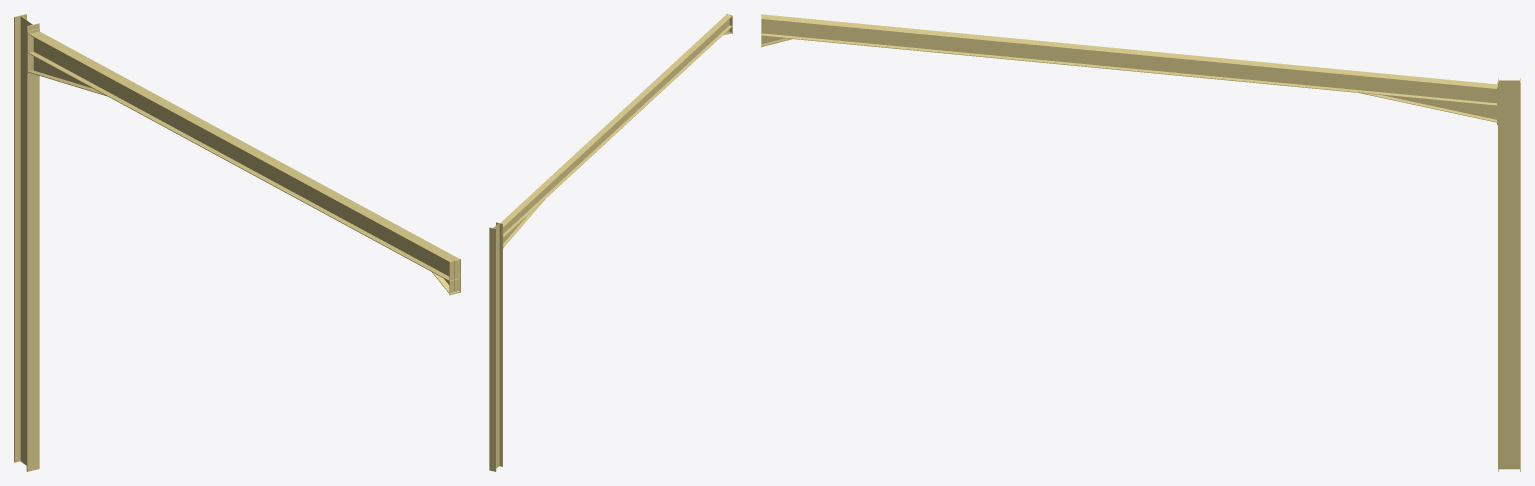
File: PortalFrame_low.fbx
The picture shows the model from 3 angles, left to right: view 1: azimuth 30°, elevation 25°; view 2: azimuth 150°, elevation 25°; view 3: azimuth 270°, elevation 25°; orthographic projection. The views are drawn at different scales.
Visible parts, largest first — view 1: PortalFrameRafter_low, PortalFrameColumn_low; view 2: PortalFrameRafter_low, PortalFrameColumn_low; view 3: PortalFrameRafter_low, PortalFrameColumn_low.
Part boxes in pixels (box(x1,y1,x2,y2)): PortalFrameRafter_low: box(27, 28, 460, 295); PortalFrameColumn_low: box(14, 14, 39, 471); PortalFrameRafter_low: box(500, 14, 732, 249); PortalFrameColumn_low: box(489, 222, 502, 471); PortalFrameRafter_low: box(761, 14, 1497, 124); PortalFrameColumn_low: box(1498, 78, 1520, 471).
Size of the model in its own units: 16.57 by 668 by 1015.
